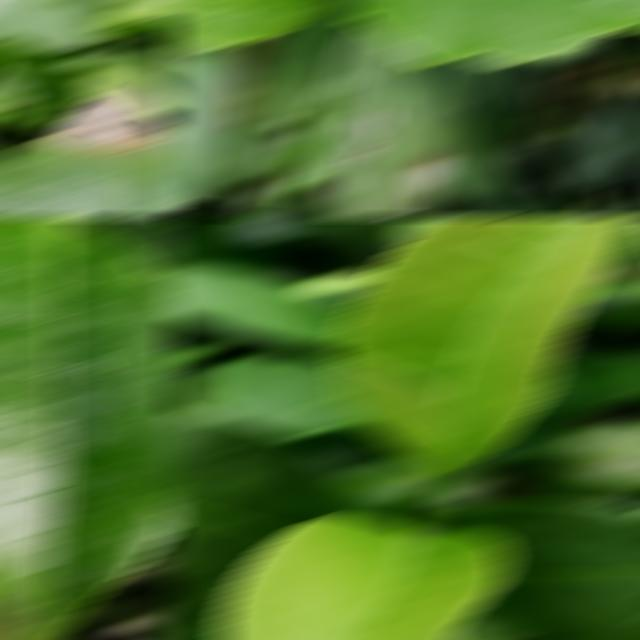Leaf: (0, 219, 180, 638), (332, 219, 632, 468), (164, 409, 405, 619), (215, 518, 510, 638), (428, 502, 640, 638), (316, 28, 454, 215), (0, 92, 180, 215), (343, 2, 640, 64), (164, 267, 354, 352), (239, 2, 357, 126), (200, 356, 376, 438), (164, 53, 240, 205), (274, 76, 344, 199), (557, 99, 640, 188), (436, 114, 505, 197), (0, 51, 90, 111), (548, 354, 640, 408), (206, 125, 294, 180)
